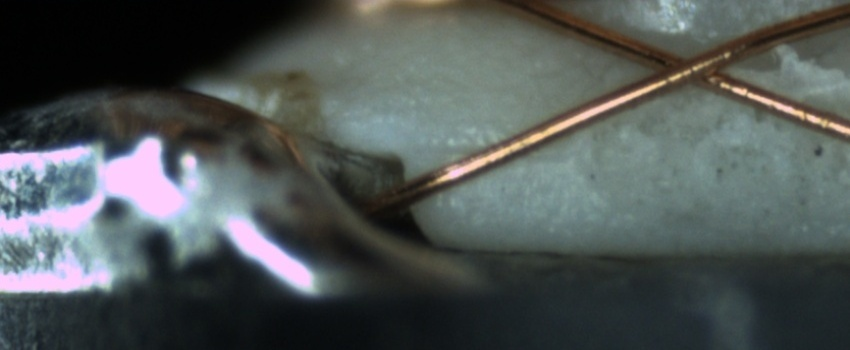CL: (624, 33, 762, 97)
DL: (417, 120, 557, 184)
